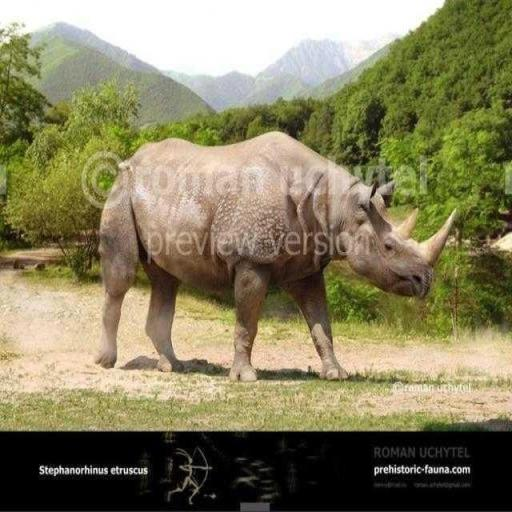Rhino: (93, 128, 457, 383)
